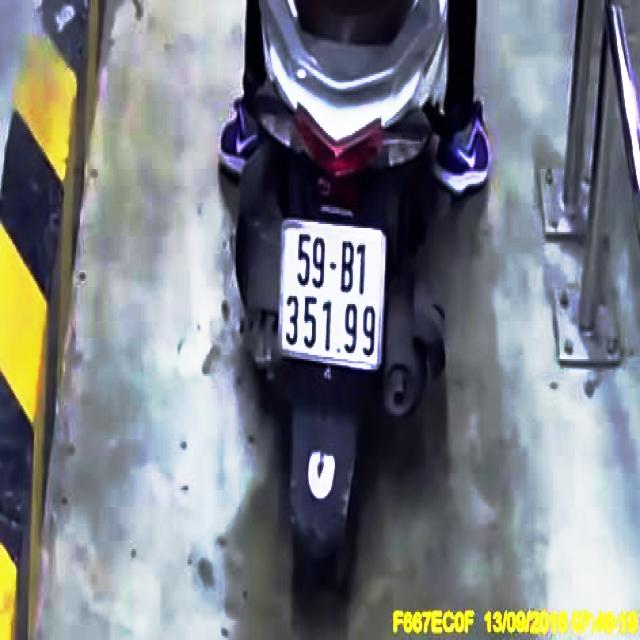license_plate: (280, 226, 386, 366)
